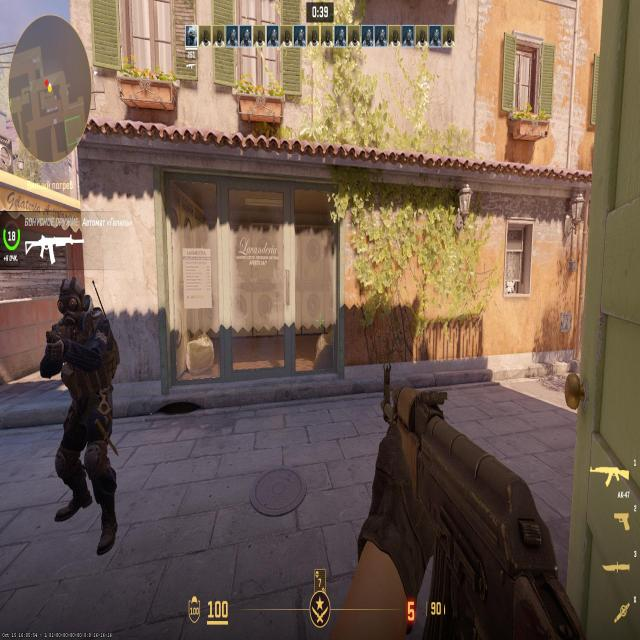CT: (53, 283, 111, 490)
CT_heat: (70, 286, 87, 328)
